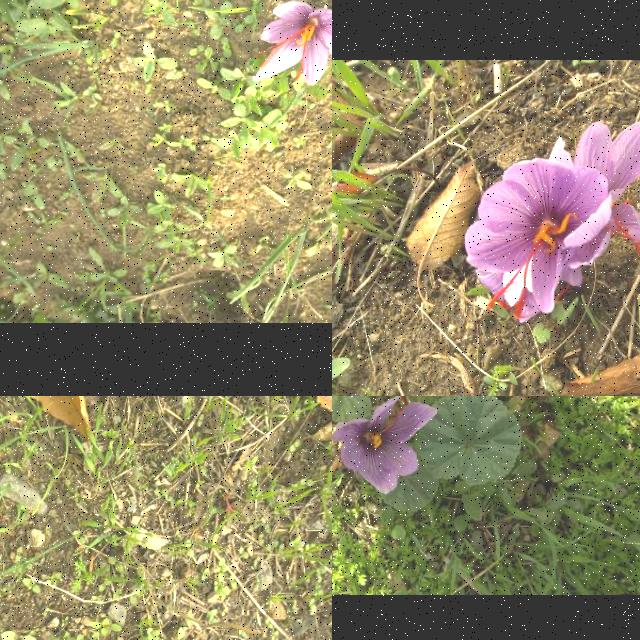flower: (332, 396, 438, 496), (254, 1, 332, 84)
overlap: (466, 120, 640, 323)
